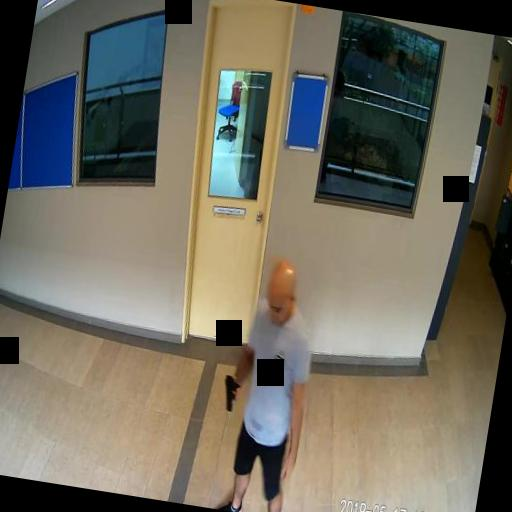Handgun: (218, 370, 242, 410)
